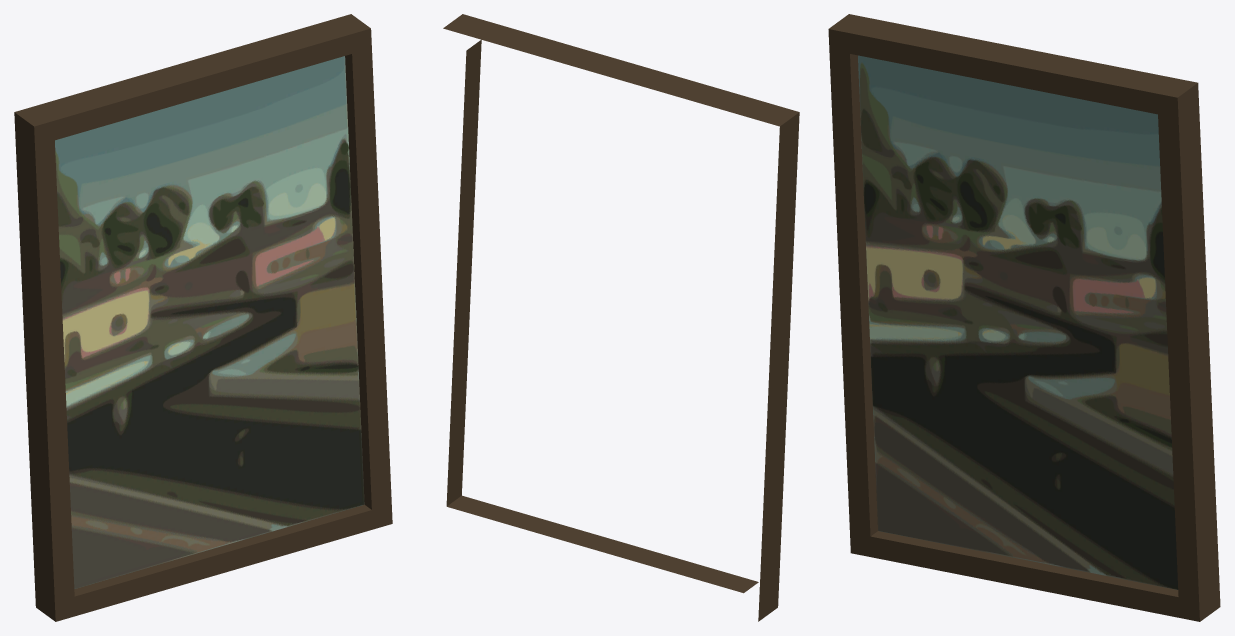
The model's file is TallPainting 1.glb.
3 renders of one model, left to right at view 1: azimuth 30°, elevation 25°; view 2: azimuth 150°, elevation 25°; view 3: azimuth 330°, elevation 25°, orthographic. The views are drawn at different scales.
Visible parts, largest first — view 1: Cube.001, Cube; view 2: Cube; view 3: Cube.001, Cube.
Part boxes in pixels (x1,y1,x2,y2): Cube.001: (55,56,364,588); Cube: (14,14,392,621); Cube: (443,14,799,621); Cube.001: (858,55,1178,589); Cube: (828,14,1220,621).
Size of the model in its own units: 0.8223 by 1.13 by 0.0786.
2 materials, 2 textured.
